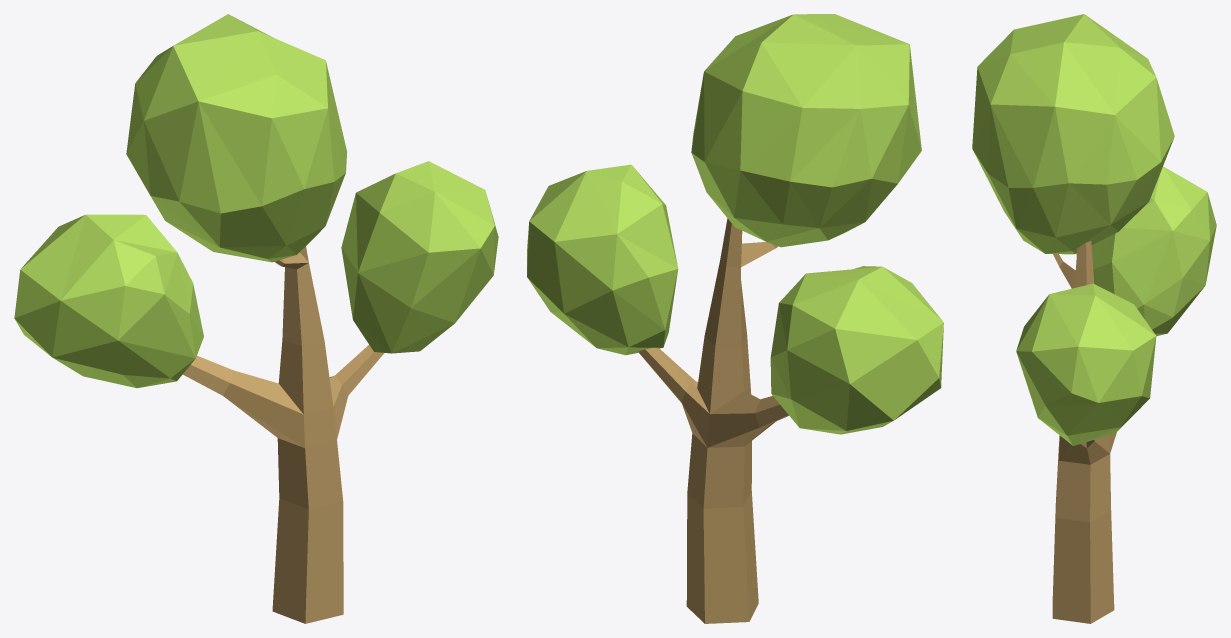
The model's file is Simple_Tree_m_01_LOD.fbx.
The picture shows the model from 3 angles, left to right: view 1: azimuth 30°, elevation 25°; view 2: azimuth 150°, elevation 25°; view 3: azimuth 270°, elevation 25°; orthographic projection. The views are drawn at different scales.
Visible parts, largest first — view 1: Simple_Tree_m_01_LOD0; view 2: Simple_Tree_m_01_LOD0; view 3: Simple_Tree_m_01_LOD0.
Boxes of the visible parts, x1,y1,x2,y2 form: Simple_Tree_m_01_LOD0: (14, 14, 498, 623); Simple_Tree_m_01_LOD0: (527, 14, 943, 623); Simple_Tree_m_01_LOD0: (972, 14, 1216, 623).
Size of what is drawn, in the model's own units: 511 by 666 by 273.
